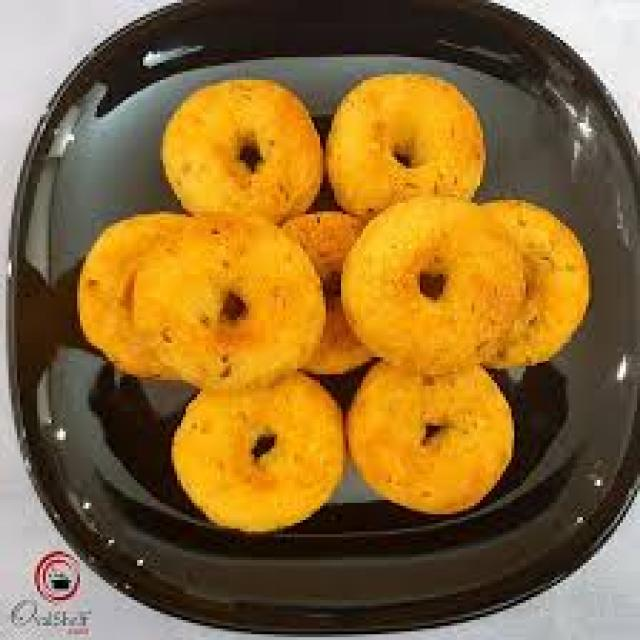MEDU VADA: (340, 200, 529, 371), (131, 217, 317, 386), (174, 371, 343, 529), (349, 360, 509, 509), (163, 80, 317, 220), (326, 80, 483, 214), (483, 200, 589, 363)
